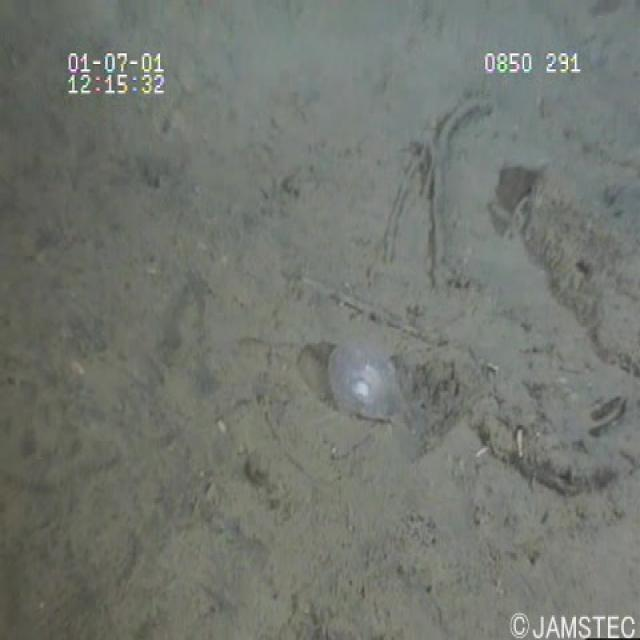plastic: (316, 329, 411, 439)
